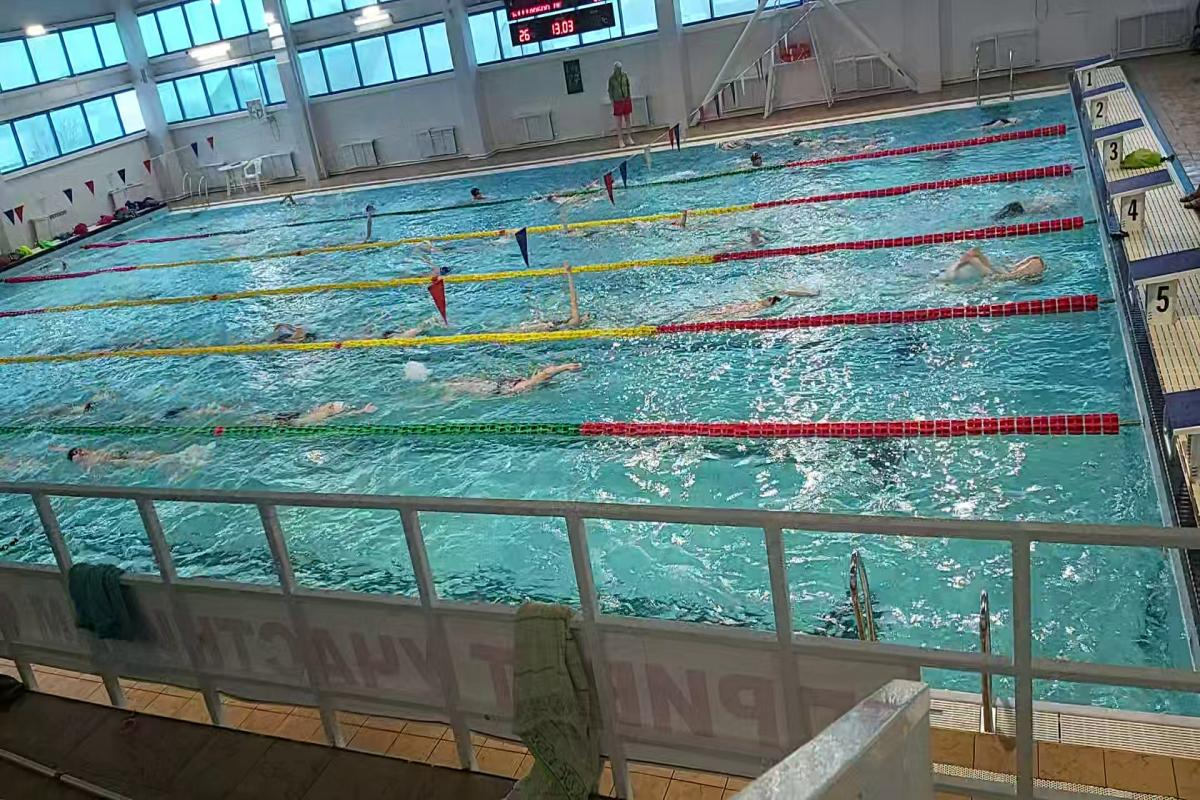swimmer: (430, 355, 588, 403), (944, 238, 1064, 293), (54, 436, 188, 478), (687, 280, 820, 319), (514, 280, 603, 332), (240, 392, 381, 424), (30, 382, 105, 419), (145, 399, 227, 424), (260, 314, 331, 342), (710, 229, 779, 254), (991, 194, 1052, 222)
